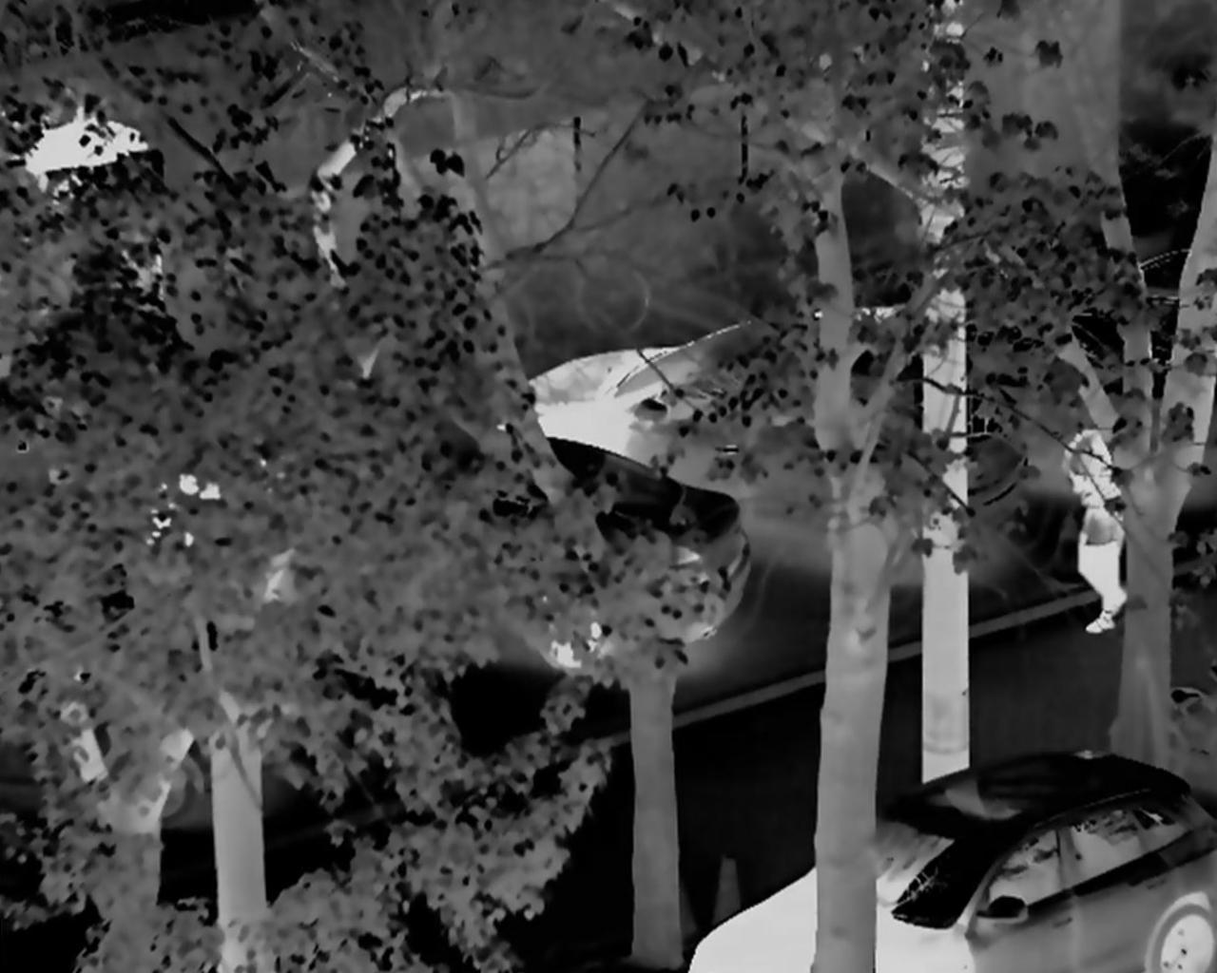person: (1057, 418, 1138, 635)
